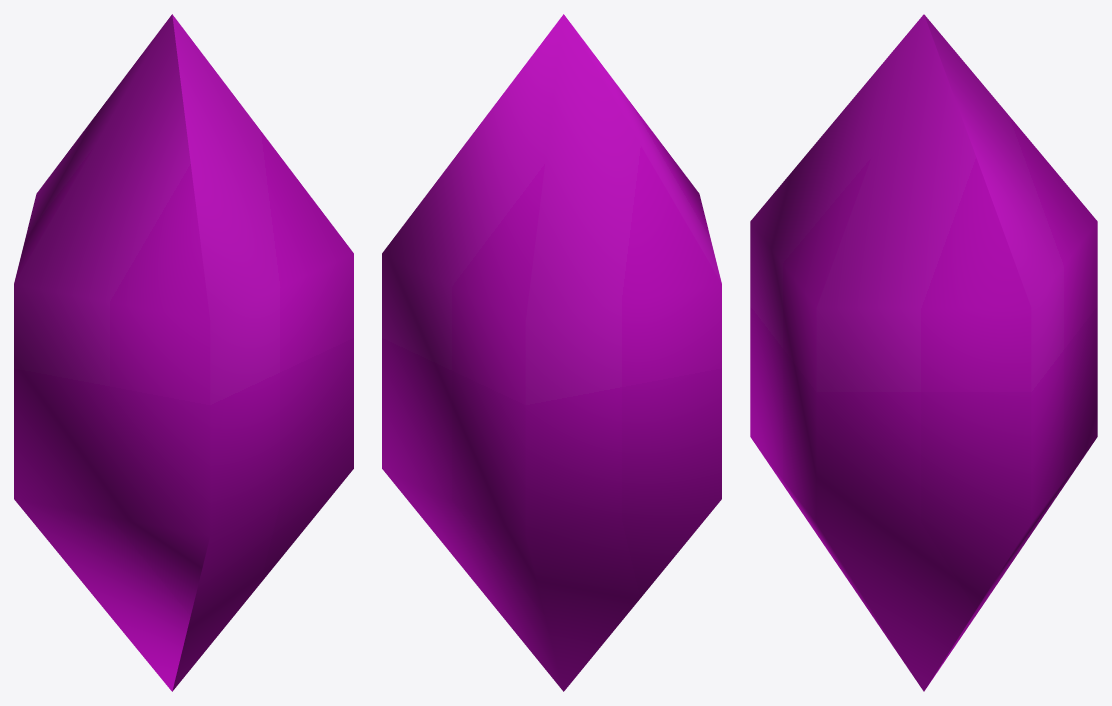
The model's file is COURAGEPOINTS.obj.
The picture shows the model from 3 angles, left to right: view 1: azimuth 30°, elevation 25°; view 2: azimuth 150°, elevation 25°; view 3: azimuth 270°, elevation 25°; orthographic projection.
Parts seen in each view (by area): view 1: Sphere02; view 2: Sphere02; view 3: Sphere02.
Part boxes in pixels (x1,y1,x2,y2): Sphere02: (14, 14, 353, 691); Sphere02: (382, 14, 721, 691); Sphere02: (750, 14, 1097, 691).
Size of the model in its own units: 10.26 by 23.22 by 10.79.
